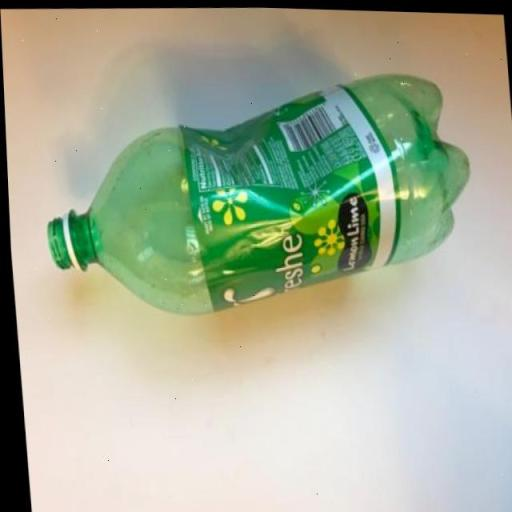plastic: (30, 58, 477, 324)
